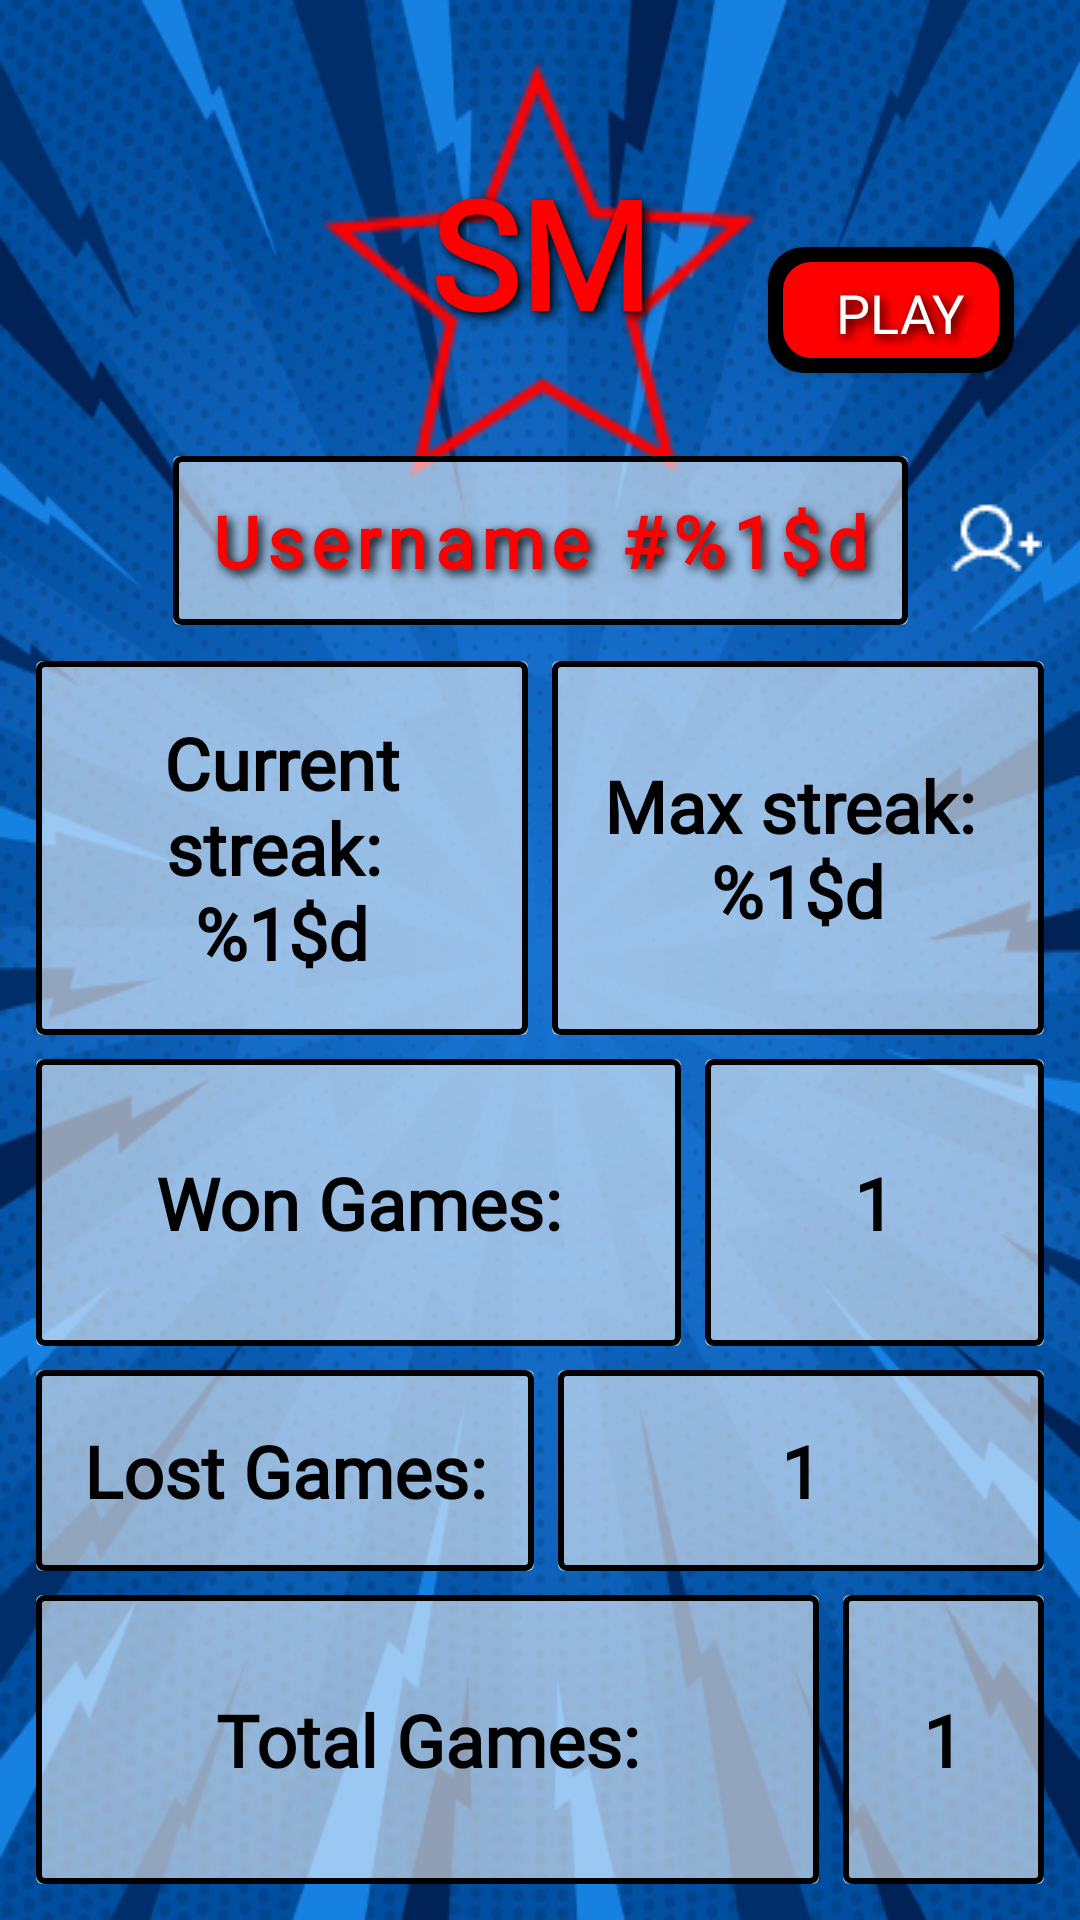

Icon bounding boxes for this 1080px x 1920px phone screenshot, format {"left": x1, "top": y1, "right": x2, "bottom": y2}:
friend: {"left": 946, "top": 493, "right": 1042, "bottom": 589}
